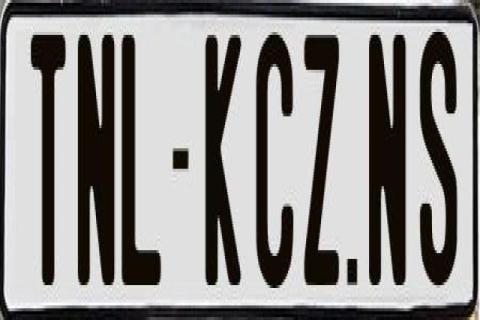C: (255, 24, 296, 294)
K: (206, 29, 248, 279)
L: (121, 32, 162, 282)
N: (367, 32, 409, 288), (78, 26, 118, 291)
S: (421, 32, 459, 285)
T: (28, 26, 66, 276)
Z: (301, 29, 338, 297)
